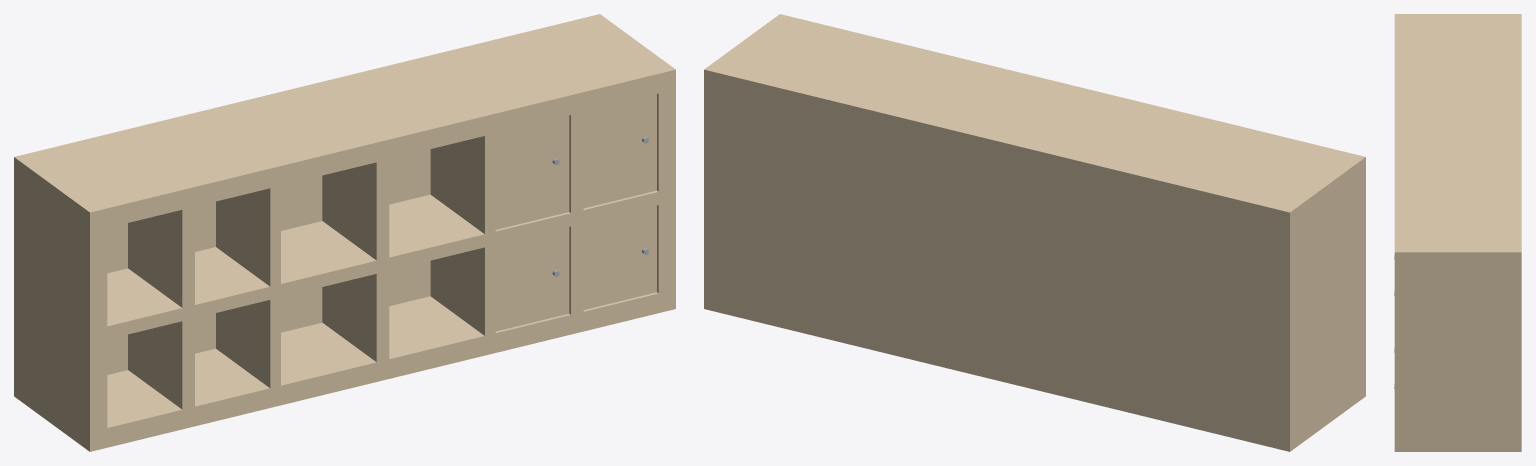
File: Closet_Type_3.fbx
3 renders of one model, left to right at view 1: azimuth 30°, elevation 25°; view 2: azimuth 150°, elevation 25°; view 3: azimuth 270°, elevation 25°, orthographic. The views are drawn at different scales.
Visible parts, largest first — view 1: Closet_Type_3; view 2: Closet_Type_3; view 3: Closet_Type_3.
Part boxes in pixels (x1,y1,x2,y2): Closet_Type_3: (14, 14, 675, 451); Closet_Type_3: (704, 14, 1365, 451); Closet_Type_3: (1394, 14, 1521, 451).
Bounding box in the file's own units: 187 × 73 × 42.12.
